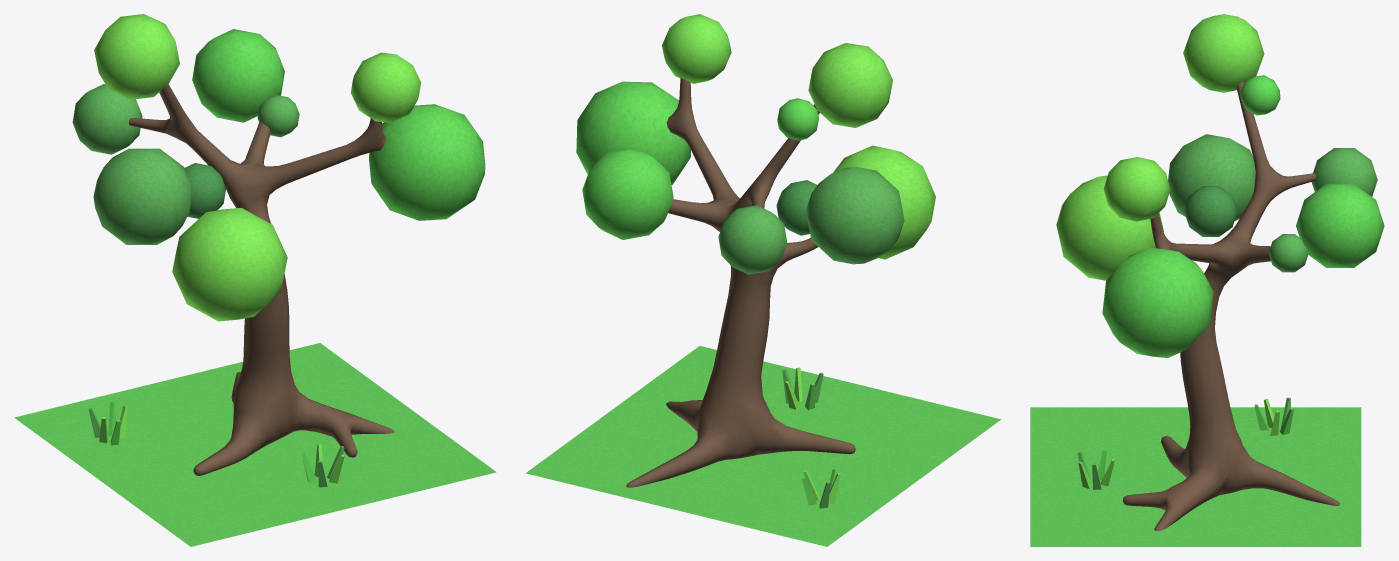
Rendered from park_9.fbx.
3 views of the same model, side by side, from view 1: azimuth 30°, elevation 25°; view 2: azimuth 150°, elevation 25°; view 3: azimuth 270°, elevation 25° (orthographic). The views are drawn at different scales.
Parts seen in each view (by area): view 1: tree.002, park_green.016, grass.030, grass.029; view 2: tree.002, park_green.016, grass.029, grass.030; view 3: tree.002, park_green.016, grass.030, grass.029.
Boxes of the visible parts, x1,y1,x2,y2 form: tree.002: (72,14,485,475); park_green.016: (14,343,496,546); grass.030: (88,401,127,445); grass.029: (301,444,344,487); tree.002: (576,14,935,487); park_green.016: (526,346,1000,546); grass.029: (782,367,823,409); grass.030: (801,468,840,508); tree.002: (1056,14,1384,531); park_green.016: (1030,407,1361,546); grass.030: (1254,397,1293,435); grass.029: (1078,449,1114,489).
Size of the model in its own units: 2.32 by 2.79 by 2.14.
Materials: 2 (2 with a texture image).
